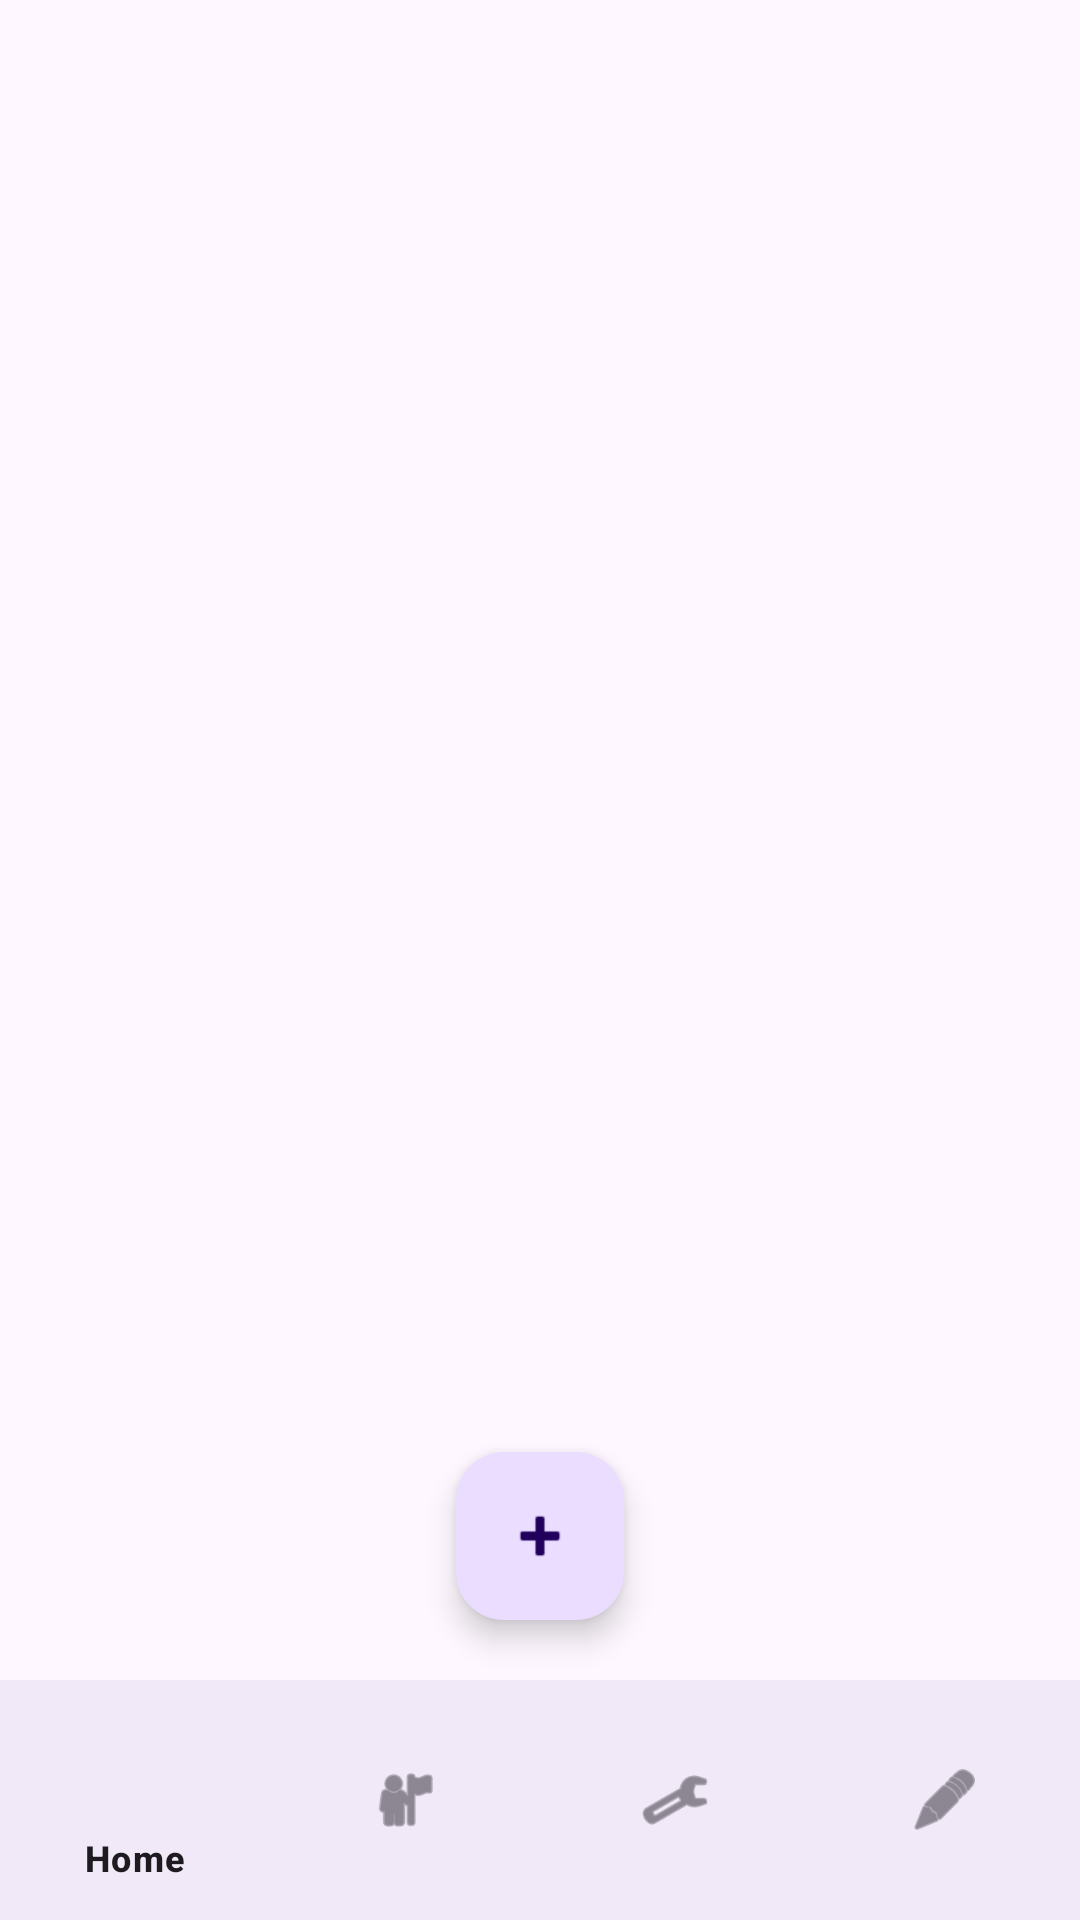

Where icons sit on this 1080×1920 app screen, as (x1, y1, x2, y2):
Add Journal: (456, 1452, 624, 1620)
